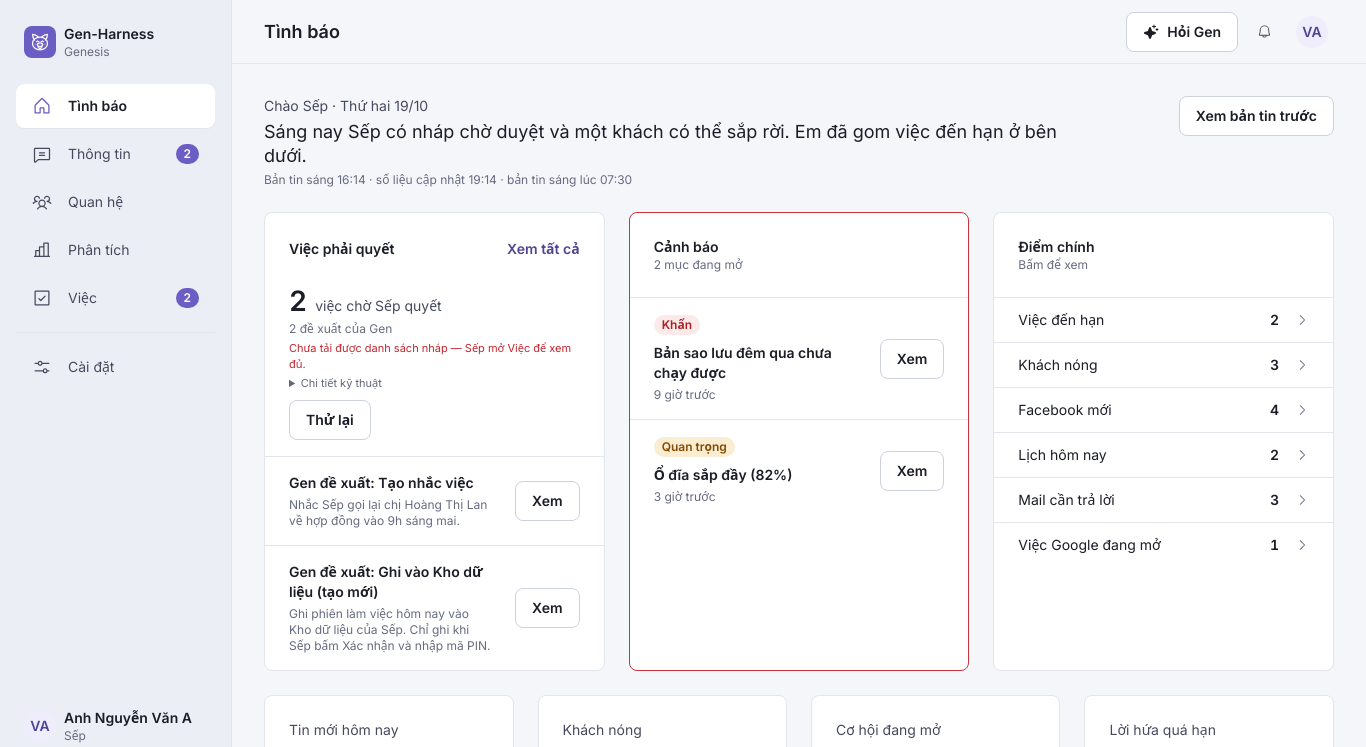
Test case: OwnerShell › Gen tắt: ngăn Hỏi Gen giải thích + link Bộ não AI (không có khung chat)
The width and height of the screenshot is (1366, 747).
Click the button with test id "owner-ask-gen": (1182, 32) x1=1126 y1=12 x2=1238 y2=52
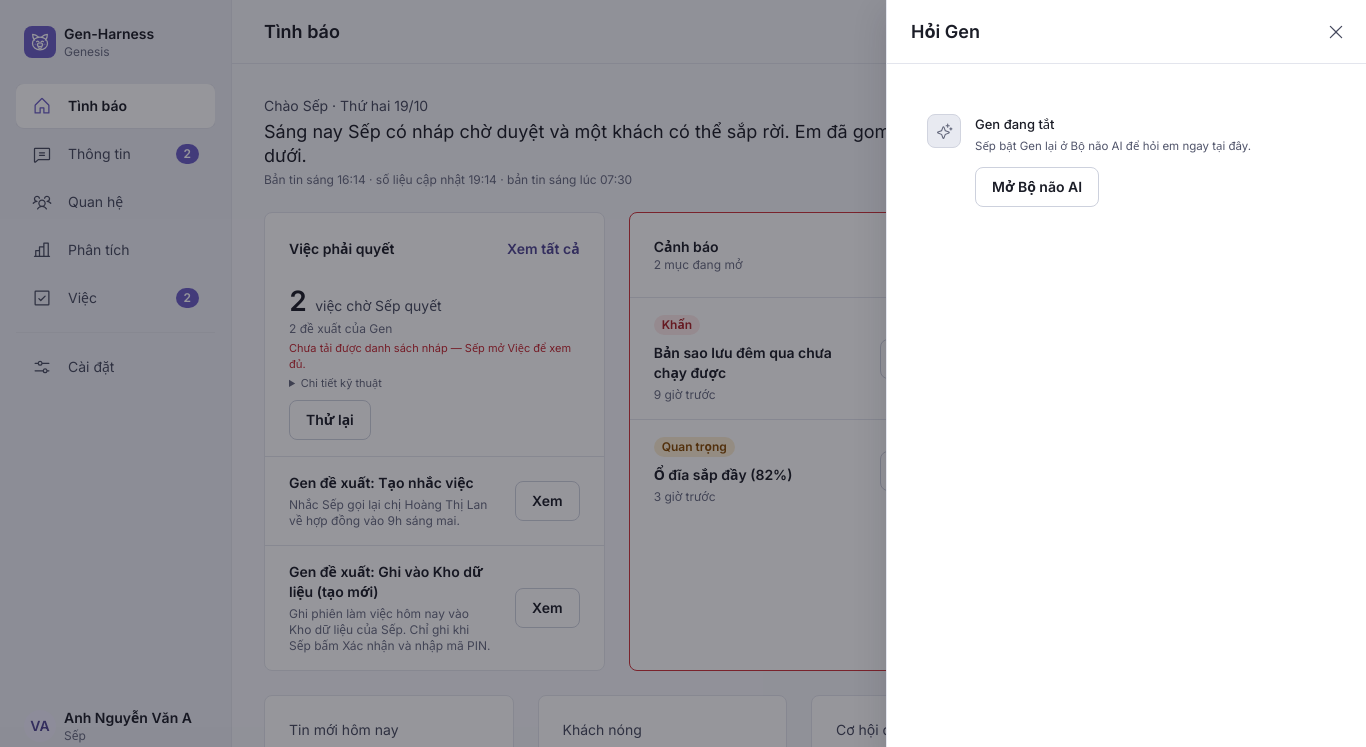
Expected: the text "Gen đang tắt" is shown, x1=975 y1=116 x2=1054 y2=132
